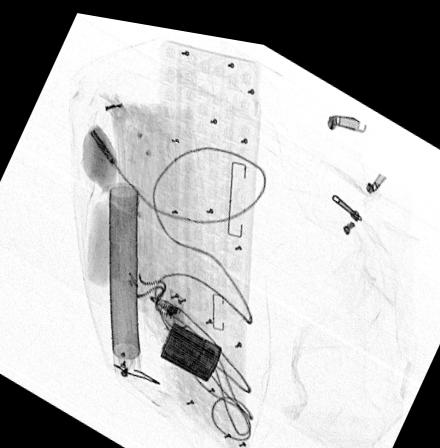Lighter: (159, 314, 221, 373)
